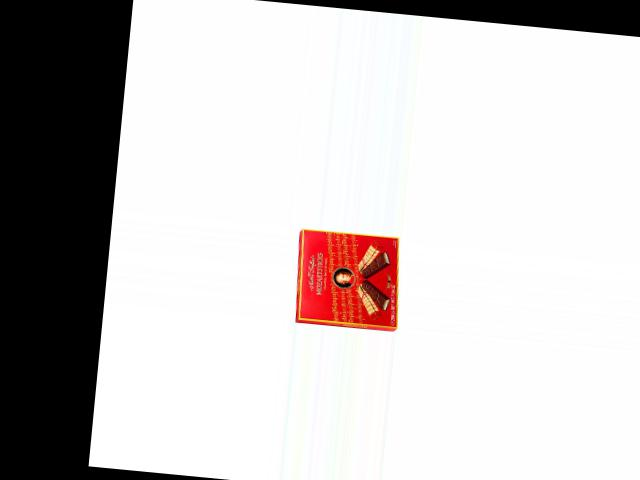chocolate: (292, 226, 408, 333)
